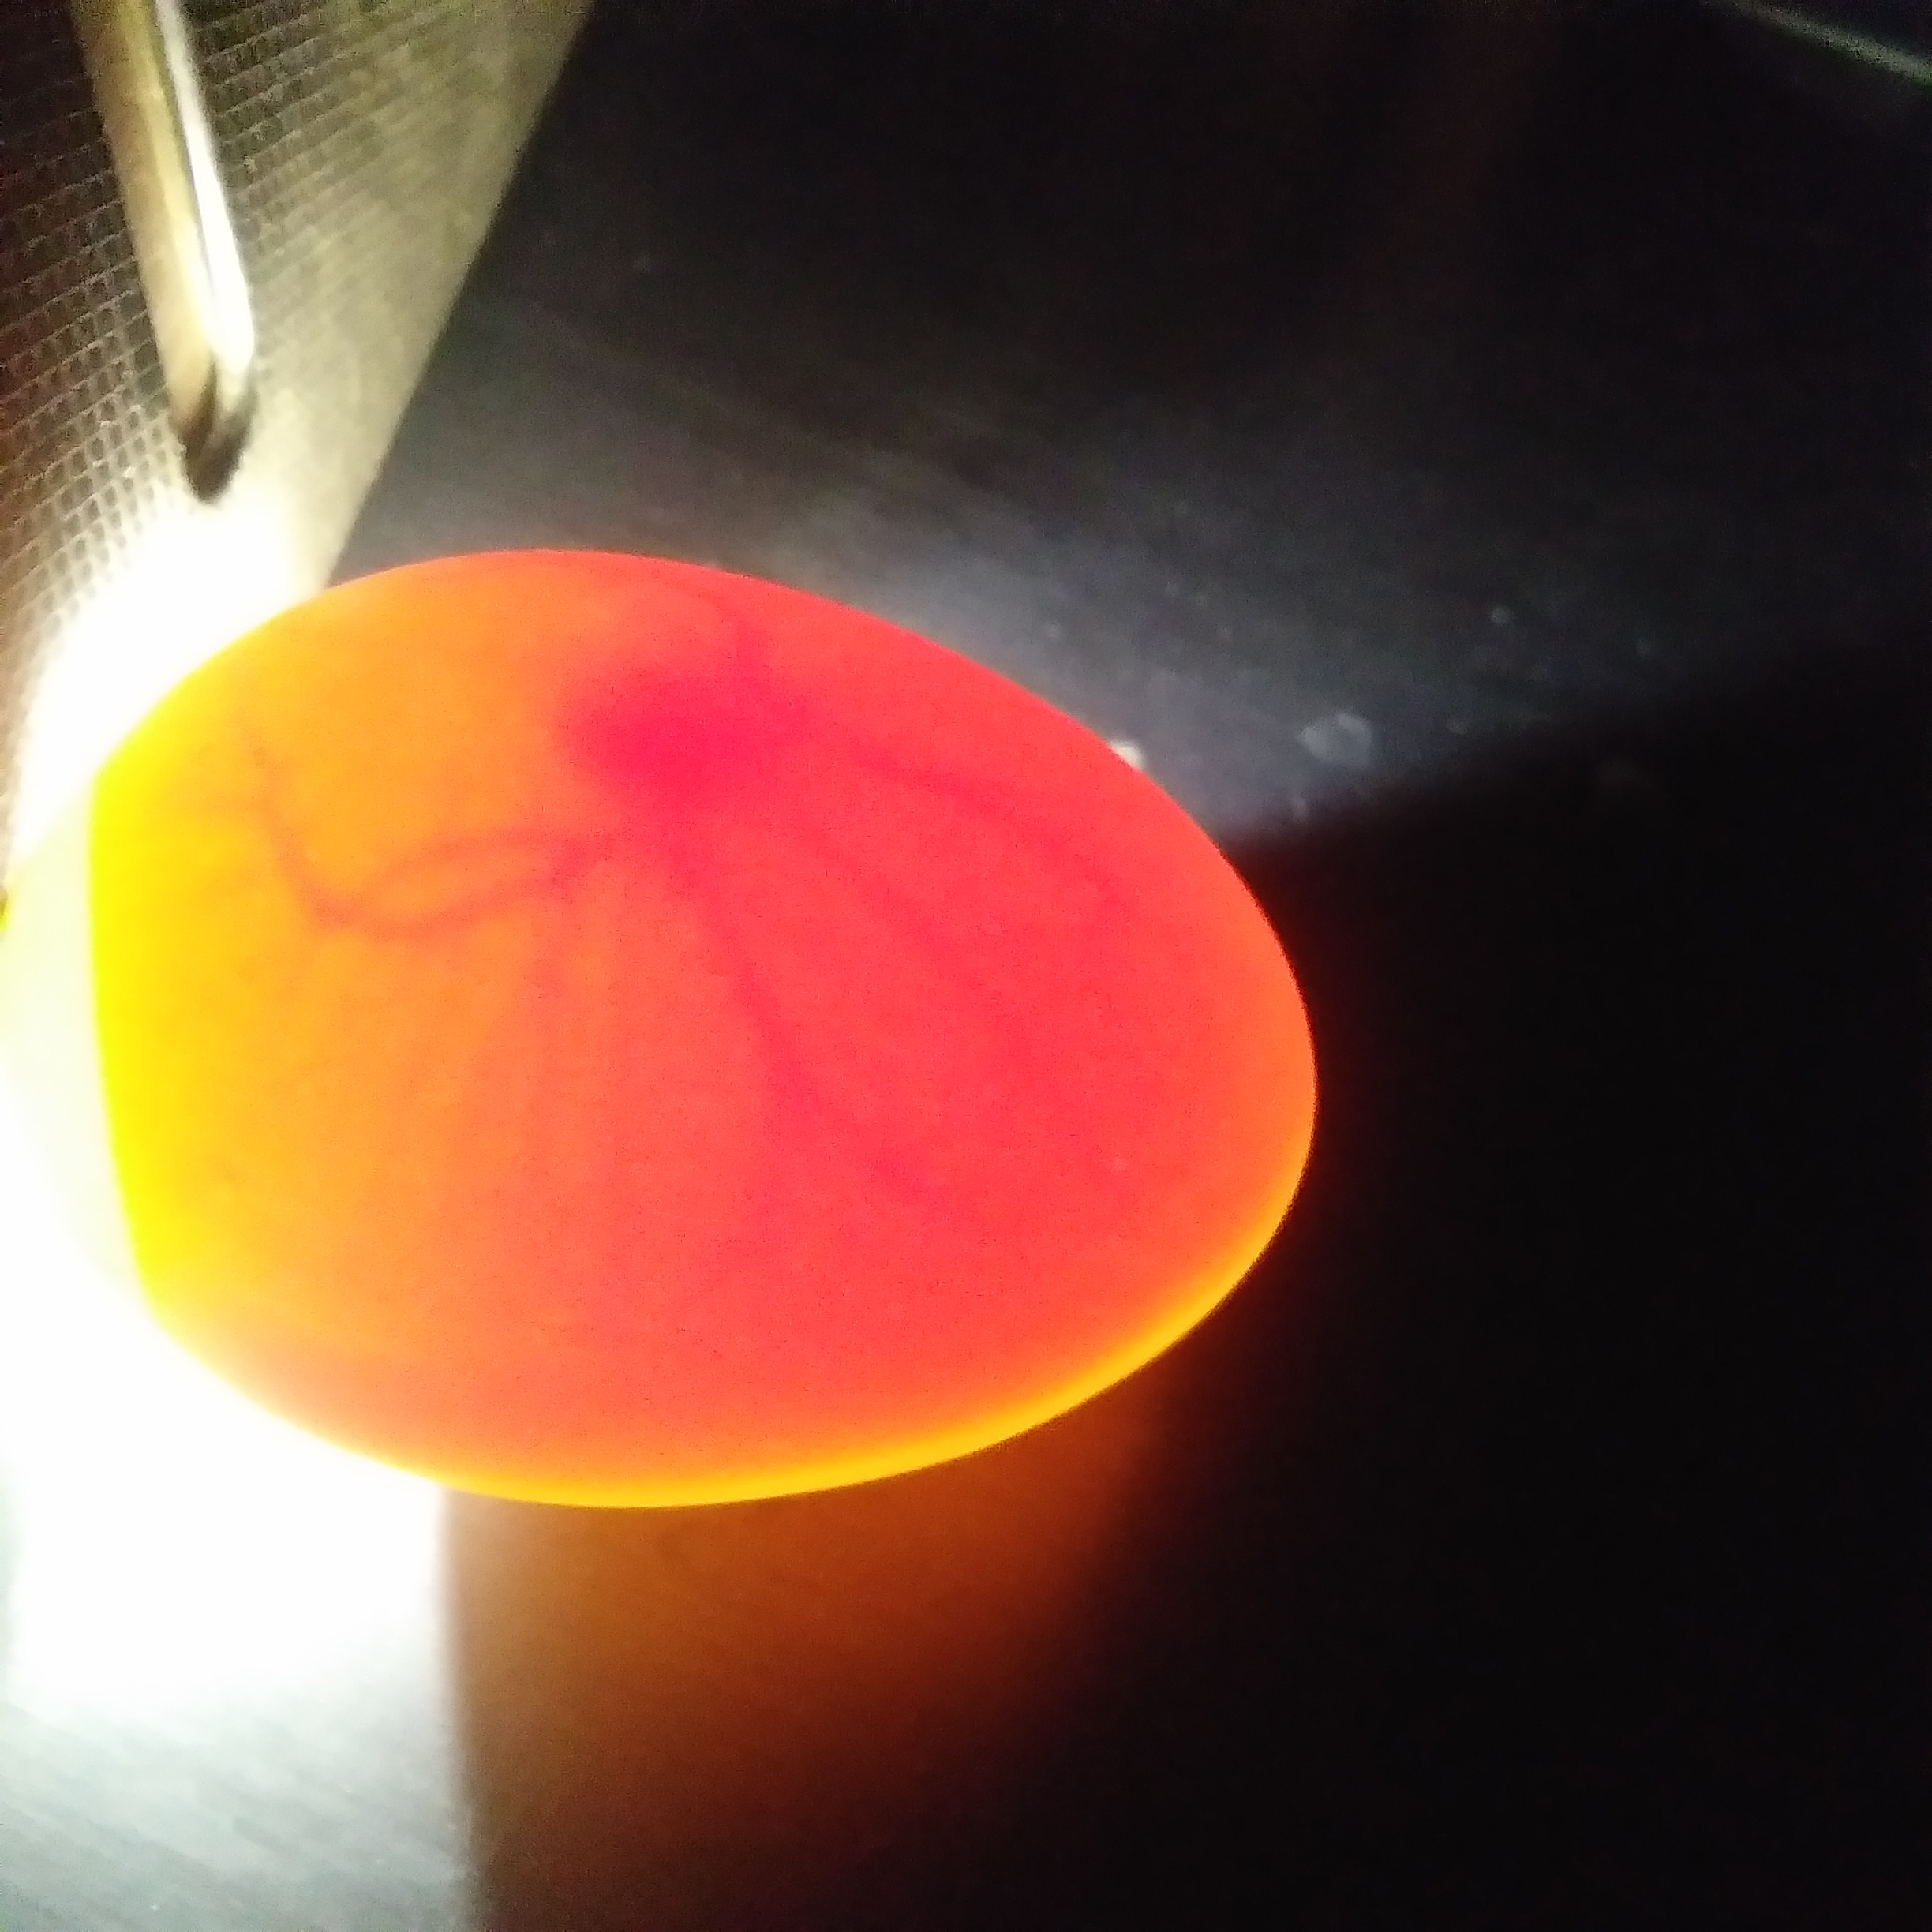bloodcell: (225, 695, 522, 1221), (566, 909, 1063, 1185)
embryo: (552, 669, 768, 863)
